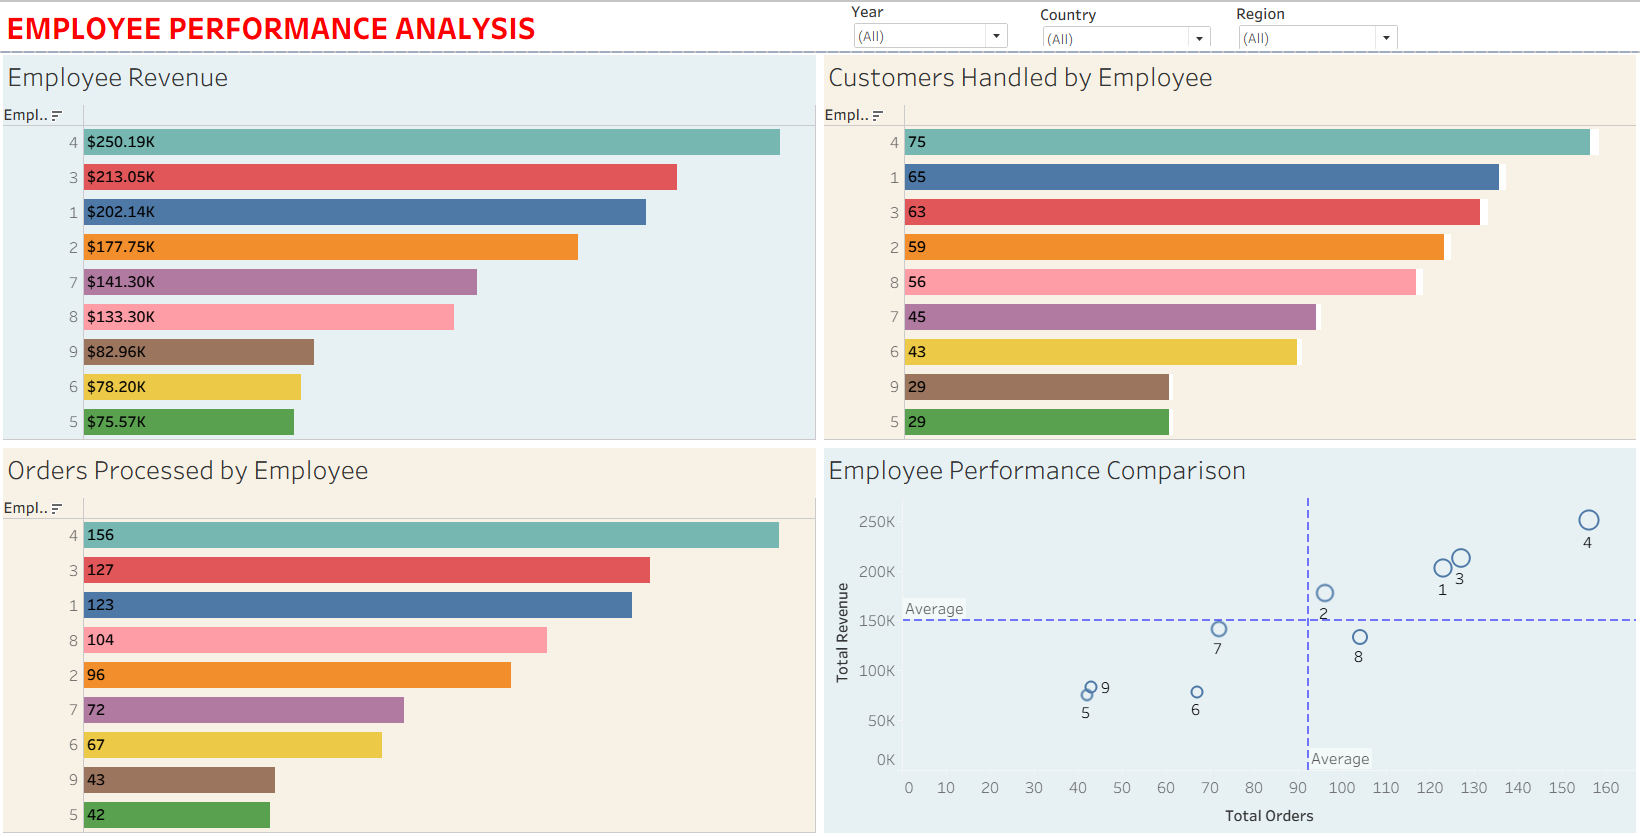

What the dashboard file says about the page in this screenshot:
{"tool":"tableau","page":{"name":"Employee Performance Analysis","canvas":[1000,1000],"units":"permille","ordinal":1},"visuals":[{"type":"filter","title":"Employee Revenue","param":"[federated.0fuxvor0l2khf1164kcrc0bxxkrn].[yr:order_date:ok]","box":[519,8.2,96.6,55.2]},{"type":"title","box":[4.8,9.4,990.3,57.6]},{"type":"filter","title":"Employee Revenue","param":"[federated.0fuxvor0l2khf1164kcrc0bxxkrn].[none:ship_region:nk]","box":[751.4,10.6,99.6,54.1]},{"type":"filter","title":"Employee Revenue","param":"[federated.0fuxvor0l2khf1164kcrc0bxxkrn].[none:ship_country:nk]","box":[633.1,11.8,105,49.4]},{"type":"worksheet","title":"Employee Revenue","mark":"Bar","rows":["employee_id"],"cols":["vtsum","vtsum"],"box":[4.8,67,495.2,461.8]},{"type":"worksheet","title":"Customers Handled by Employee","mark":"Bar","rows":["employee_id"],"cols":["Calculation_0175675494146050","Calculation_0175675494146050"],"box":[500,67,495.2,461.8]},{"type":"worksheet","title":"Orders Processed by Employee","mark":"Bar","rows":["employee_id"],"cols":["vtnone","vtnone"],"box":[4.8,528.8,495.2,461.8]},{"type":"worksheet","title":"Employee Performance Comparison","mark":"Automatic","rows":["vtsum"],"cols":["vtnone"],"box":[500,528.8,495.2,461.8]}]}

Visuals, with their boxes on the dashboard's canvas, which has no fixed pixel size, in thousandths of its width and height (x1, y1, x2, y2). These are canvas units, not pixel positions in the 1640x837 screenshot, which may show the page scaled, cropped or inside an application window:
"Employee Revenue" filter: 519/8/616/63
title: 5/9/995/67
"Employee Revenue" filter: 751/11/851/65
"Employee Revenue" filter: 633/12/738/61
"Employee Revenue" worksheet (Bar marks): 5/67/500/529
"Customers Handled by Employee" worksheet (Bar marks): 500/67/995/529
"Orders Processed by Employee" worksheet (Bar marks): 5/529/500/991
"Employee Performance Comparison" worksheet: 500/529/995/991
